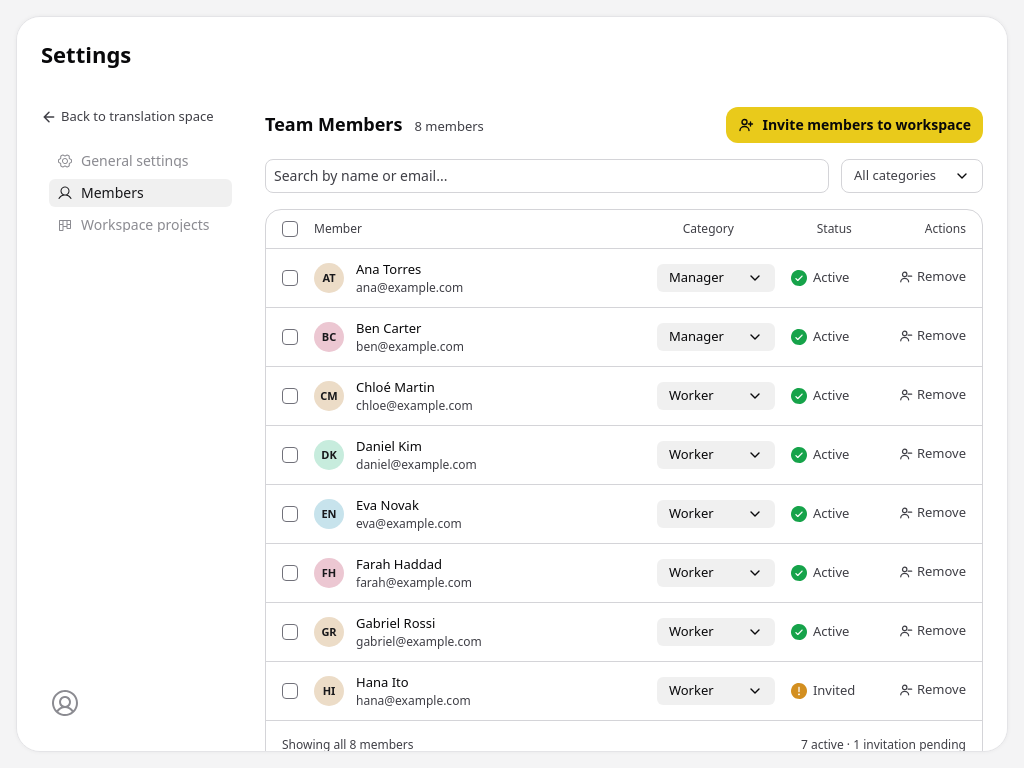
Scenario: Settings > Members › changes categories but always keeps a manager
Check: the text "Ana Torres" is shown, box [356,260,421,278]
Step 1. Click the checkbox named "Select Ana Torres" → (290, 278), box [282,270,298,286]
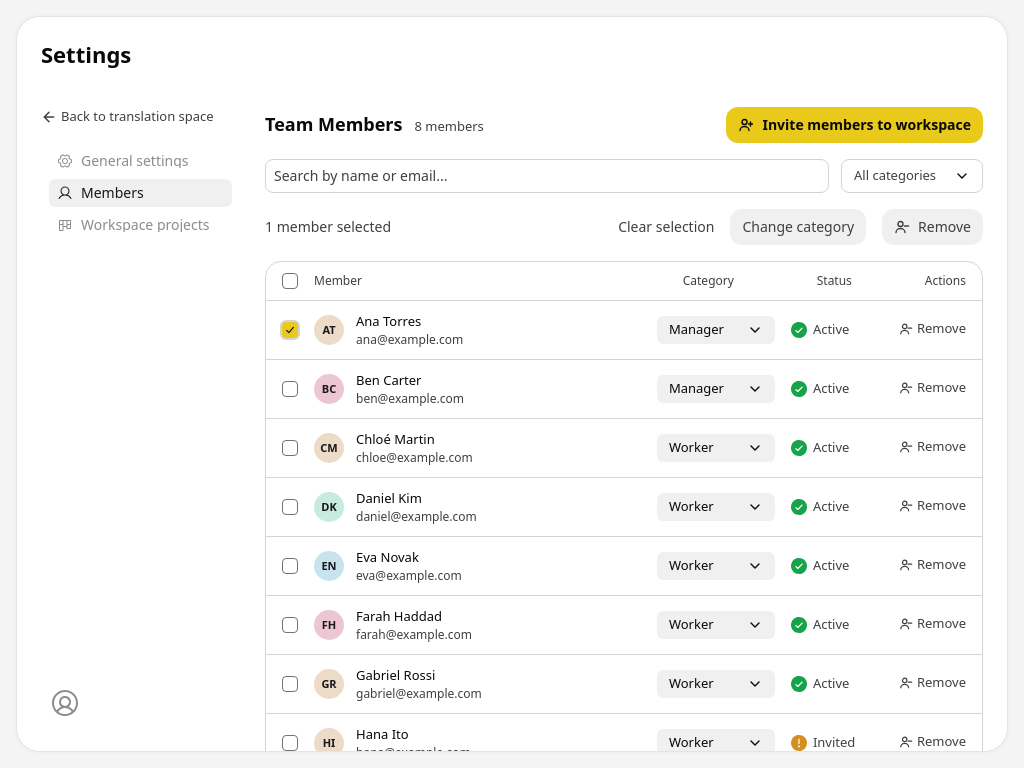
Step 2. Click the checkbox named "Select Ben Carter" → (290, 389), box [282,381,298,397]
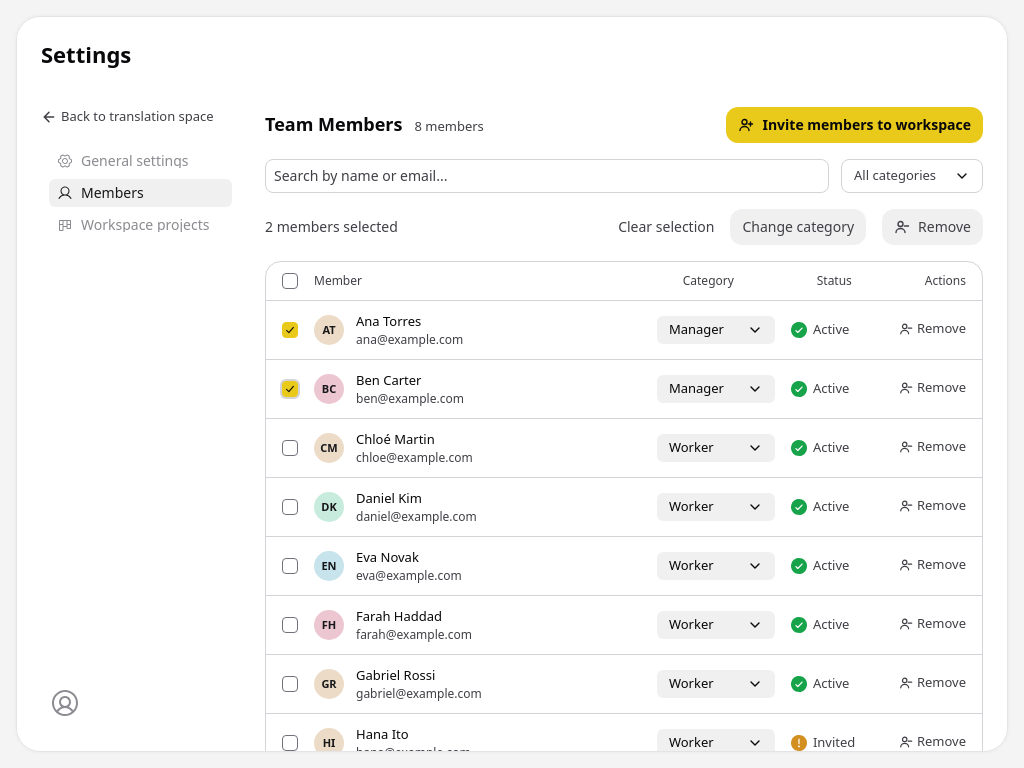
Check: the text "2 members selected" is shown, box [265,217,398,237]
Step 3. Click the button "Change category" → (798, 227), box [730,209,866,245]
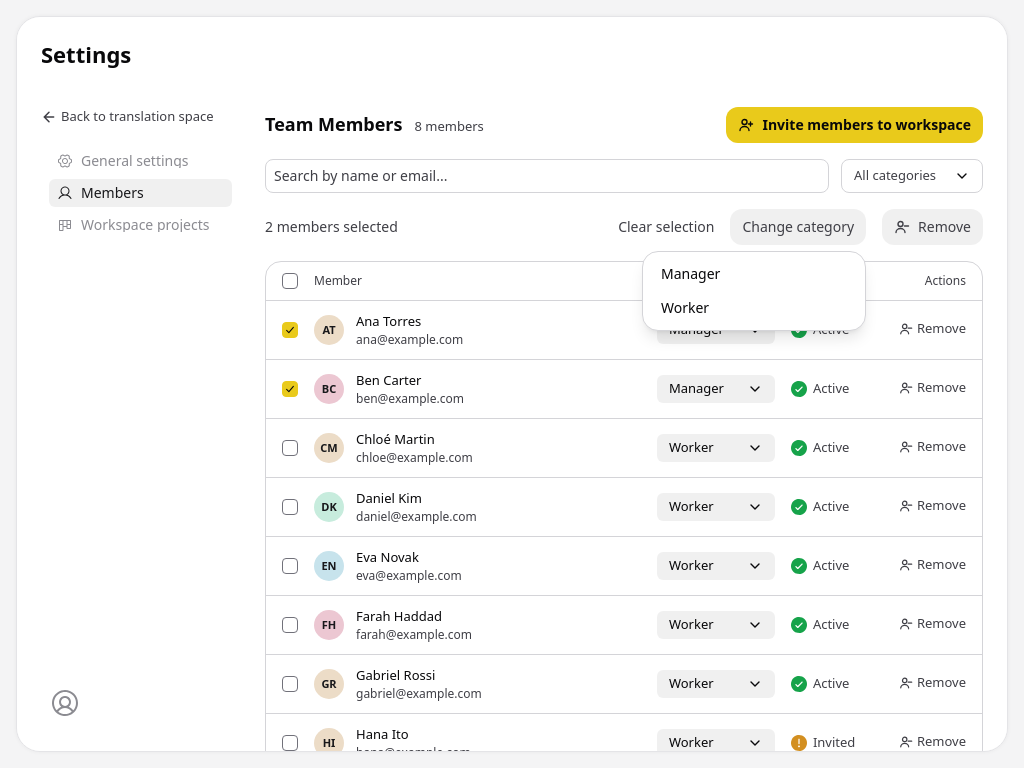
Step 4. Click the menu item "Worker" → (685, 308), box [661,298,709,317]
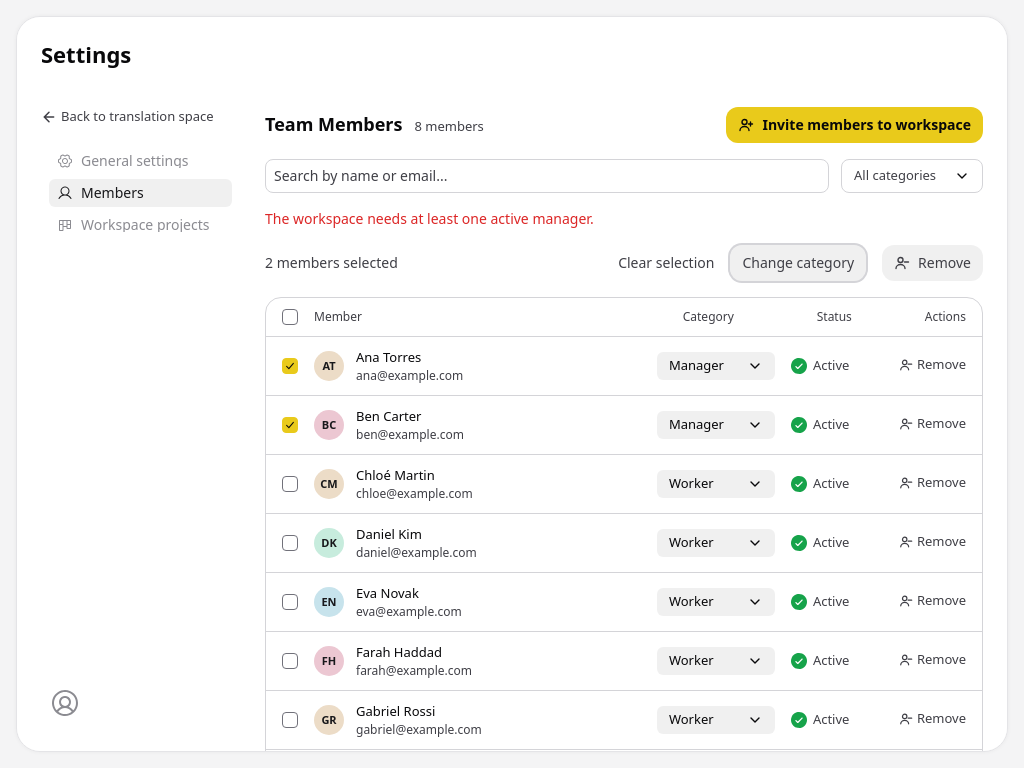
Check: the text "The workspace needs at least one active manager." is shown, box [265,209,594,228]
Step 5. Click the dropdown named "Category of Chloé Martin" → (716, 484), box [657,470,775,498]
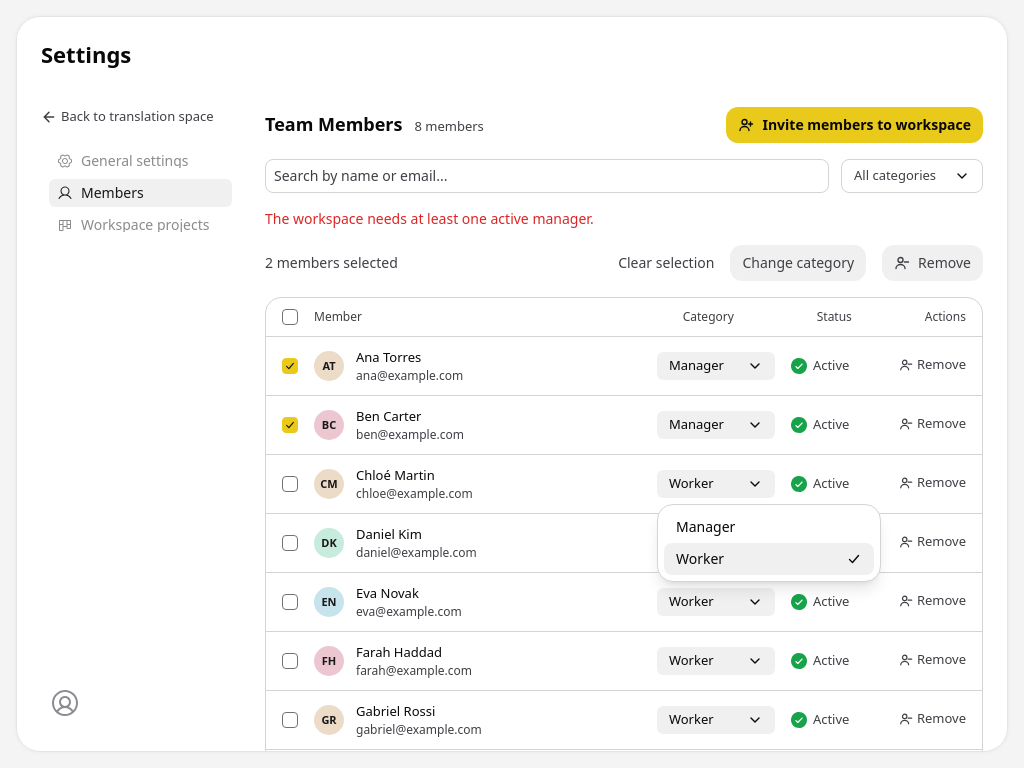
Step 6. Click the option "Manager" → (706, 526), box [676,517,735,536]
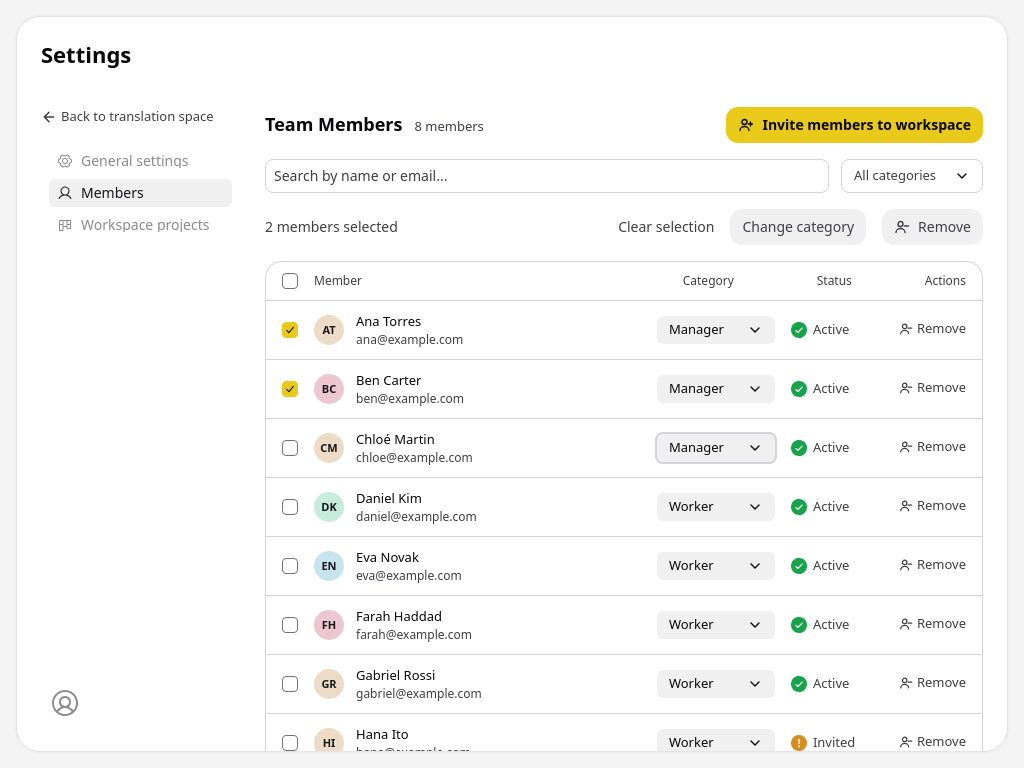
Check: the dropdown named "Category of Chloé Martin" reads "Manager", box [657,434,775,462]
